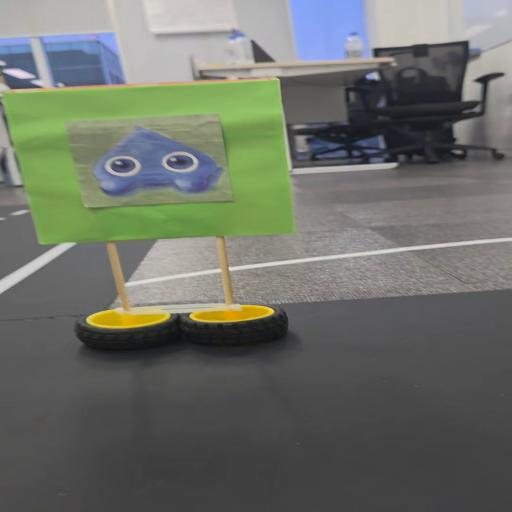Sign_B: (8, 77, 315, 355)
